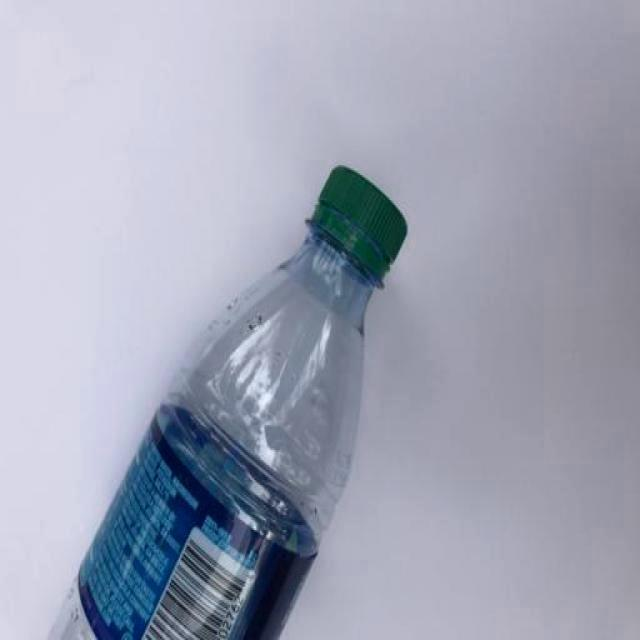bottle: (39, 165, 405, 640)
